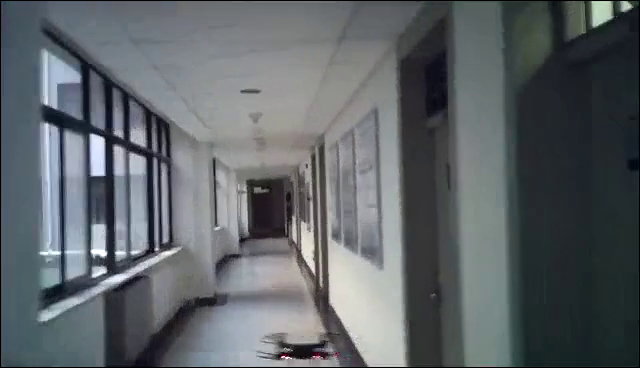drone: (257, 328, 343, 362)
